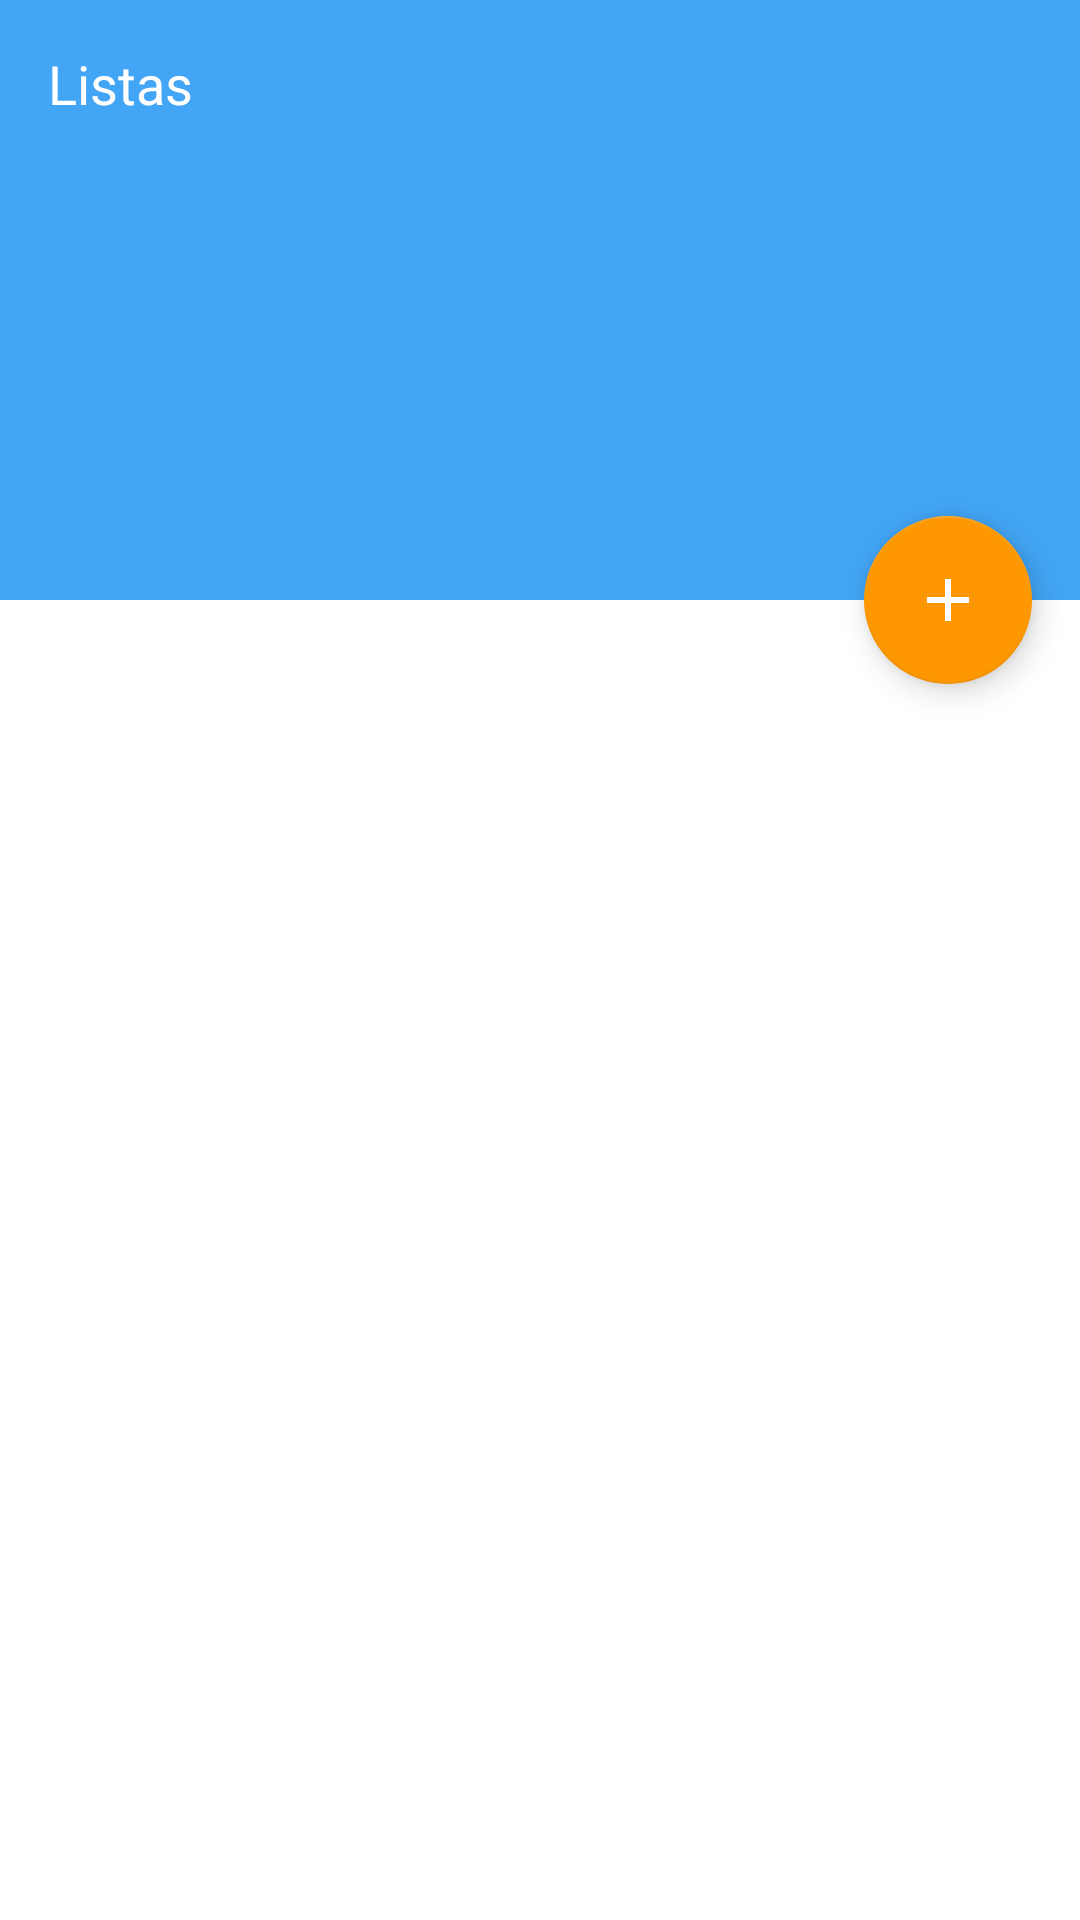

Icon click points for this 1080×1920 phone screenshot, format point (x, y):
fab plus: point (948, 600)
